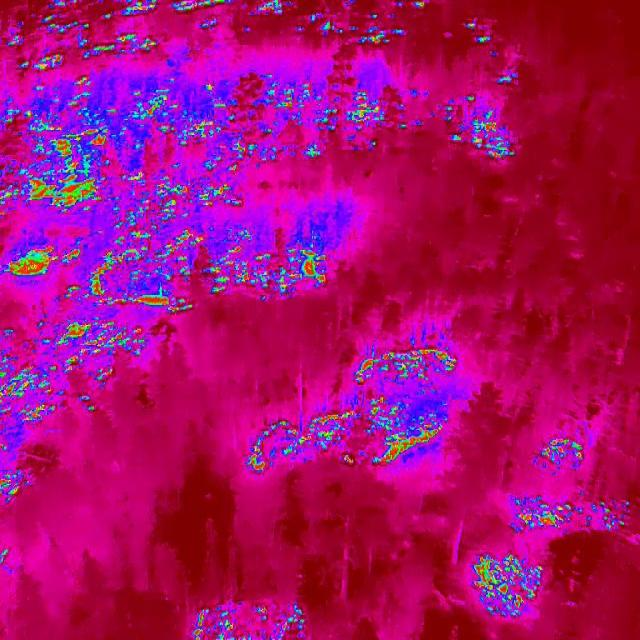fire: (86, 169, 328, 323), (0, 77, 170, 215), (191, 78, 382, 172), (245, 392, 456, 472), (396, 90, 518, 162), (41, 0, 159, 60), (351, 338, 464, 396), (0, 344, 58, 451), (310, 0, 434, 50), (467, 548, 552, 620), (32, 316, 144, 368), (181, 603, 310, 639), (504, 500, 638, 531), (462, 16, 519, 86), (0, 242, 77, 288), (532, 429, 588, 472), (18, 48, 68, 77), (0, 467, 32, 507), (167, 1, 232, 17), (256, 0, 289, 15), (64, 282, 86, 300), (0, 544, 9, 558)
